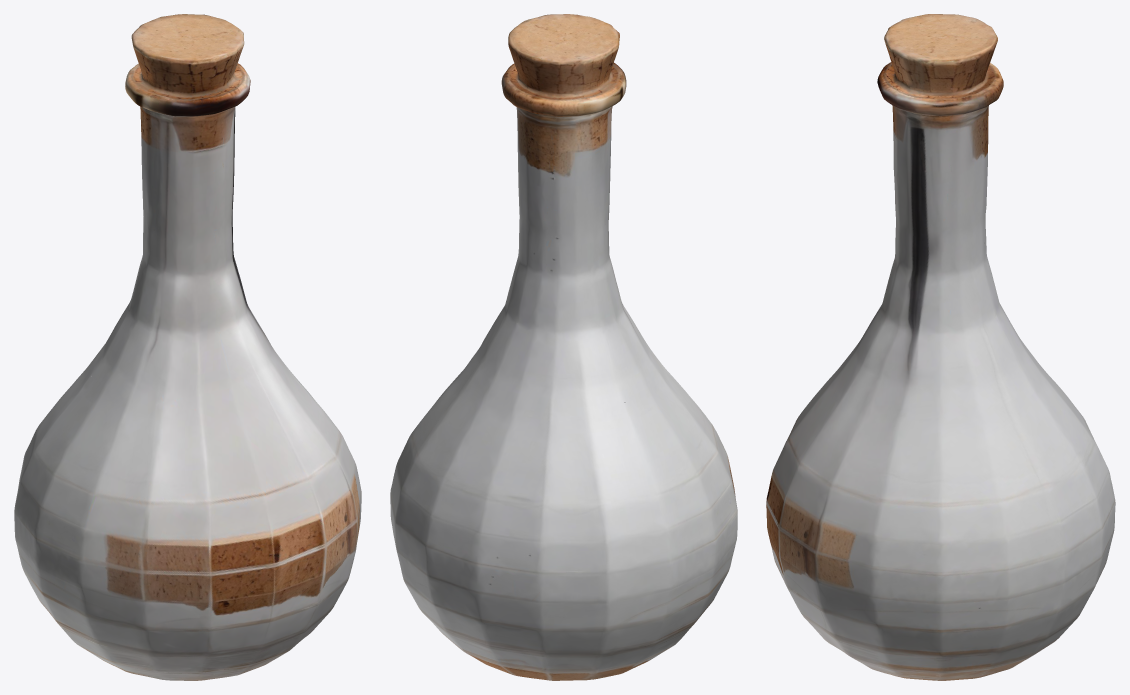
The picture shows the model from 3 angles, left to right: view 1: azimuth 30°, elevation 25°; view 2: azimuth 150°, elevation 25°; view 3: azimuth 270°, elevation 25°; orthographic projection.
Visible parts, largest first — view 1: Mesh1.0; view 2: Mesh1.0; view 3: Mesh1.0.
Boxes of the visible parts, x1=… form: Mesh1.0: x1=14, y1=14, x2=361, y2=680; Mesh1.0: x1=390, y1=14, x2=737, y2=680; Mesh1.0: x1=766, y1=14, x2=1115, y2=680.
Bounding box in the file's own units: 104 × 201 × 103.
1 material, 1 textured.
